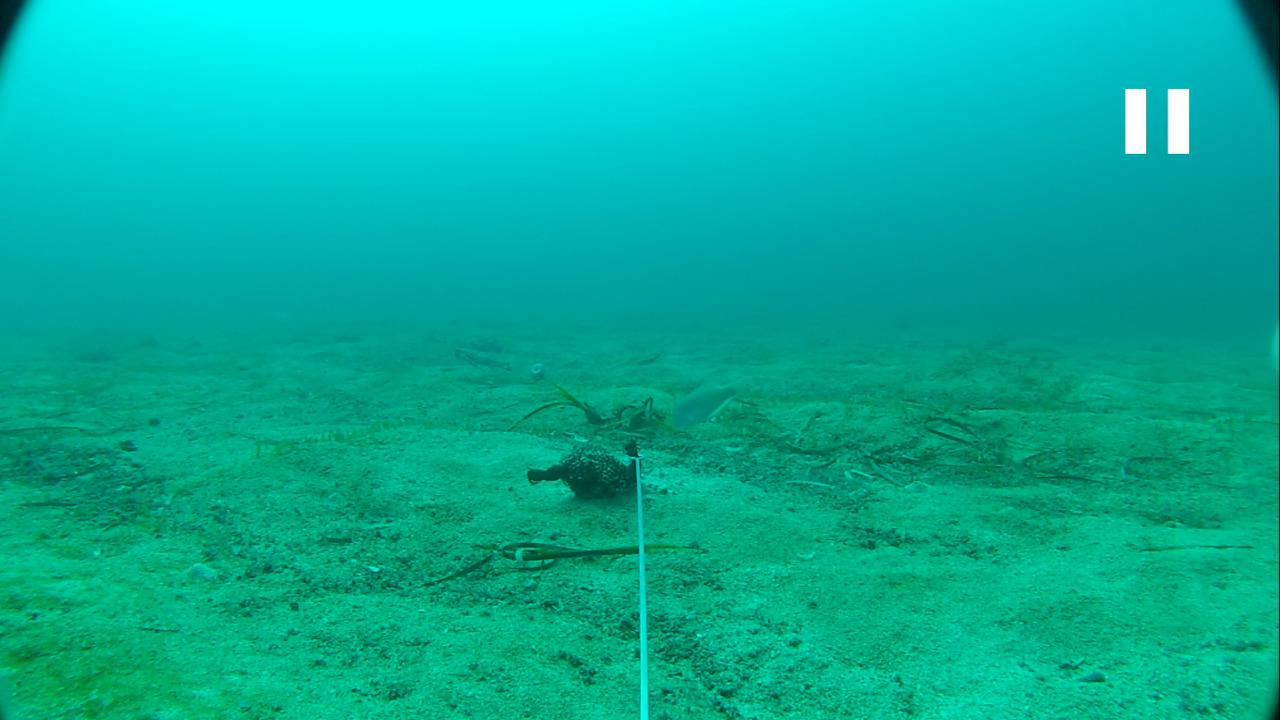dactylopterus: (447, 341, 514, 370)
raor: (658, 380, 745, 445)
